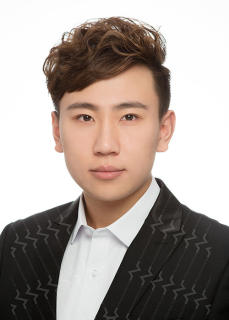unmask: (54, 82, 164, 200)
